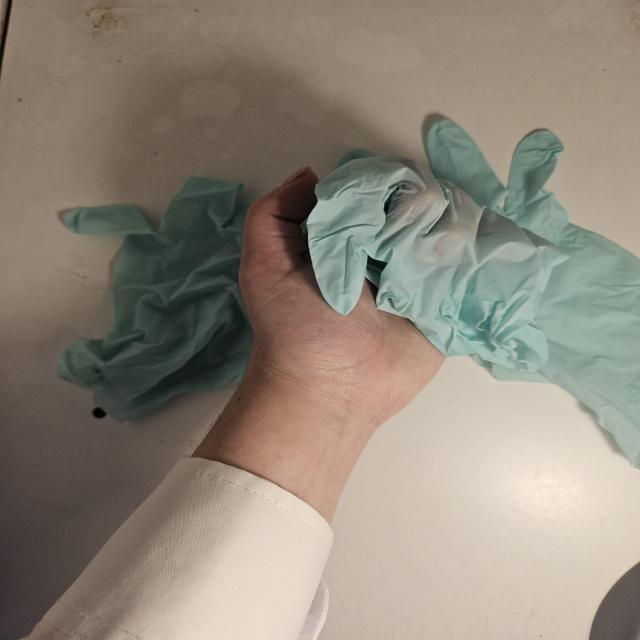glove_partial: (235, 157, 558, 388)
